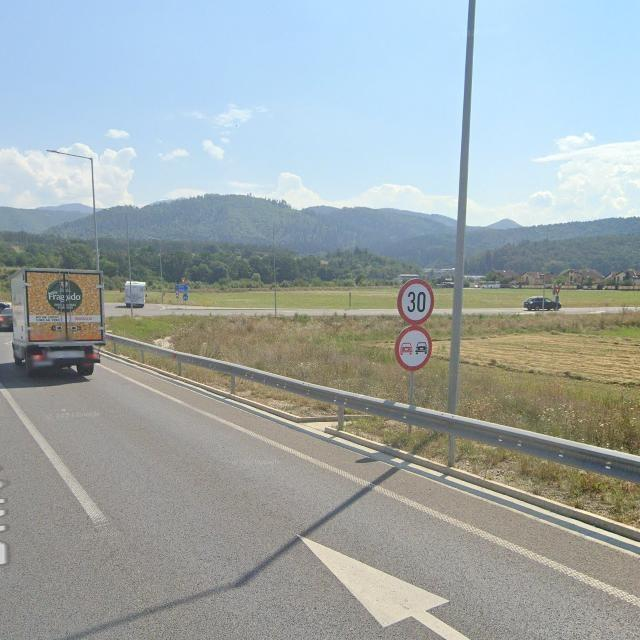forb_overtake: (395, 323, 433, 372)
forb_speed_over_30: (397, 278, 434, 324)
